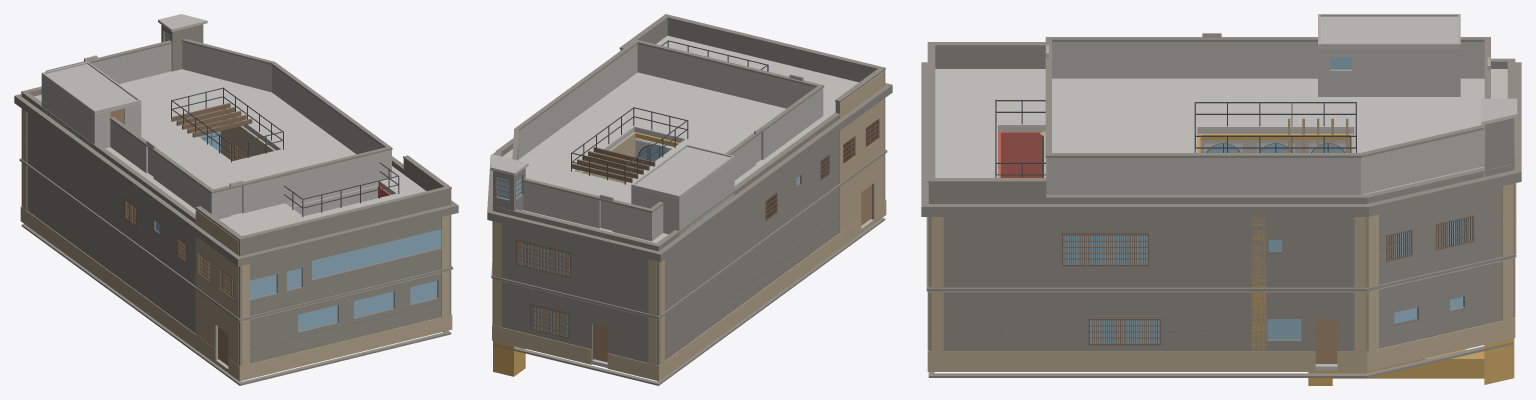
File: taif_house_V7.1.glb
3 renders of one model, left to right at view 1: azimuth 30°, elevation 25°; view 2: azimuth 150°, elevation 25°; view 3: azimuth 270°, elevation 25°, orthographic. The views are drawn at different scales.
Parts seen in each view (by area): view 1: roof_finish_floor, roof_attic_wall, gf_outer, ff_outer, chr_base_stone_plinth, roof_cornice, chr_base_stone_feature_wall_00, roof_parapet_s, roof_attic_coping, ff_outer_sill68, roof_stair_wall, chr_base_stone_quoins (+24 smaller); view 2: roof_finish_floor, roof_attic_wall, ff_outer, gf_outer, chr_base_stone_plinth, roof_cornice, chr_base_stone_feature_wall_00, roof_parapet_s, roof_stair_wall, roof_attic_coping, chr_base_stone_quoins, roof_stair_slab (+21 smaller); view 3: roof_finish_floor, roof_attic_wall, ff_outer, gf_outer, chr_base_stone_plinth, roof_cornice, chr_base_stone_quoins, roof_stair_wall, roof_parapet_s, roof_attic_coping, roof_stair_slab, roof_coping_n (+37 smaller).
Boxes of the visible parts, box(x1,y1,x2,y2) form: roof_finish_floor: box(34, 69, 426, 235); roof_attic_wall: box(91, 42, 391, 219); gf_outer: box(21, 162, 451, 366); ff_outer: box(21, 109, 451, 318); chr_base_stone_plinth: box(20, 206, 452, 381); roof_cornice: box(14, 94, 458, 266); chr_base_stone_feature_wall_00: box(195, 209, 238, 372); roof_parapet_s: box(196, 158, 451, 255); roof_attic_coping: box(45, 39, 392, 193); ff_outer_sill68: box(312, 247, 441, 300); roof_stair_wall: box(41, 76, 141, 149); chr_base_stone_quoins: box(22, 109, 449, 365); roof_finish_floor: box(502, 35, 858, 243); roof_attic_wall: box(517, 44, 823, 241); ff_outer: box(493, 98, 885, 315); gf_outer: box(493, 154, 885, 365); chr_base_stone_plinth: box(492, 199, 886, 381); roof_cornice: box(487, 83, 892, 262); chr_base_stone_feature_wall_00: box(839, 71, 884, 232); roof_parapet_s: box(620, 19, 885, 113); roof_stair_wall: box(631, 159, 734, 235); roof_attic_coping: box(512, 39, 824, 212); chr_base_stone_quoins: box(492, 99, 884, 365); roof_stair_slab: box(631, 147, 734, 199); roof_finish_floor: box(935, 69, 1507, 194); roof_attic_wall: box(1046, 42, 1484, 194); ff_outer: box(928, 183, 1514, 287); gf_outer: box(928, 258, 1514, 351); chr_base_stone_plinth: box(927, 317, 1515, 371); roof_cornice: box(921, 62, 1521, 216); chr_base_stone_quoins: box(927, 183, 1515, 351); roof_stair_wall: box(1318, 48, 1460, 96); roof_parapet_s: box(928, 47, 1046, 203); roof_attic_coping: box(1045, 37, 1490, 157); roof_stair_slab: box(1318, 16, 1460, 48); roof_coping_n: box(1046, 58, 1515, 199).
Size of the model in its own units: 14.16 by 12.19 by 24.85.
